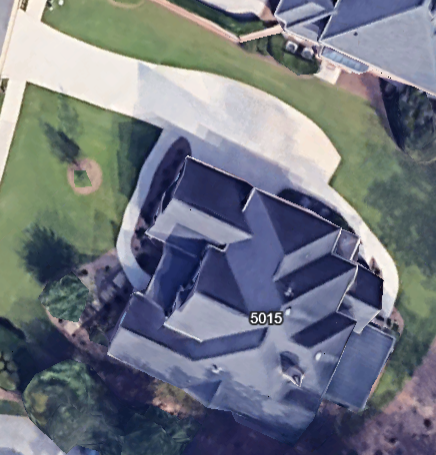driveway: (0, 0, 436, 311)
